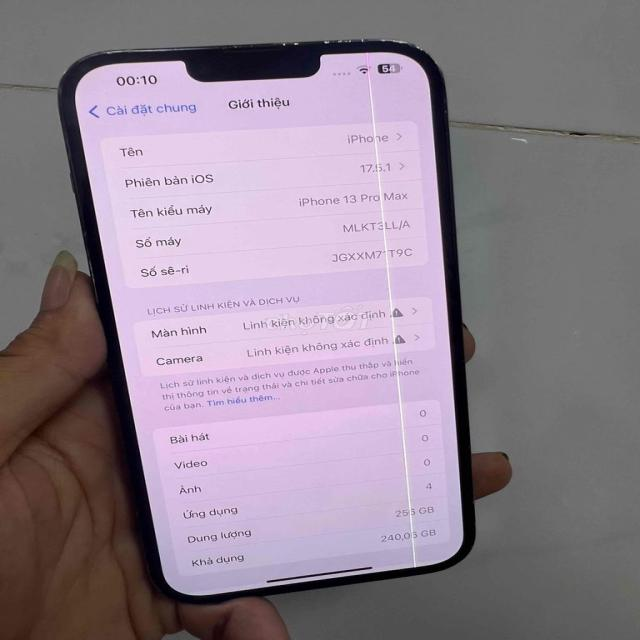screen_defect: (332, 58, 441, 578)
